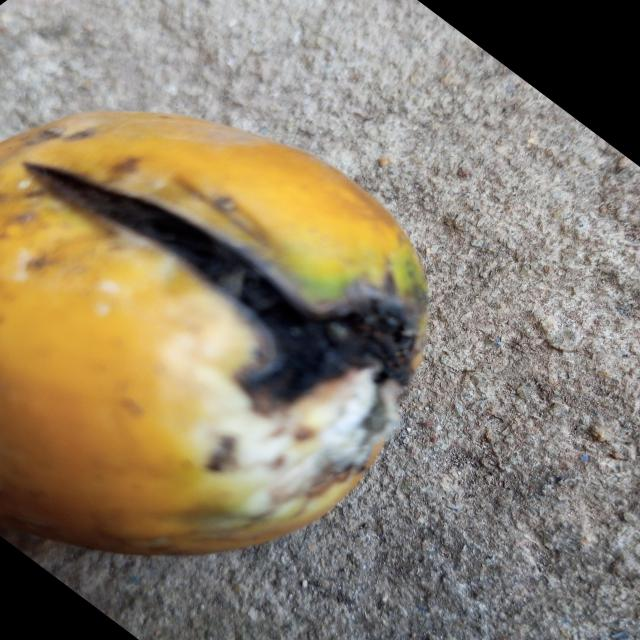damaged: (0, 110, 429, 560)
